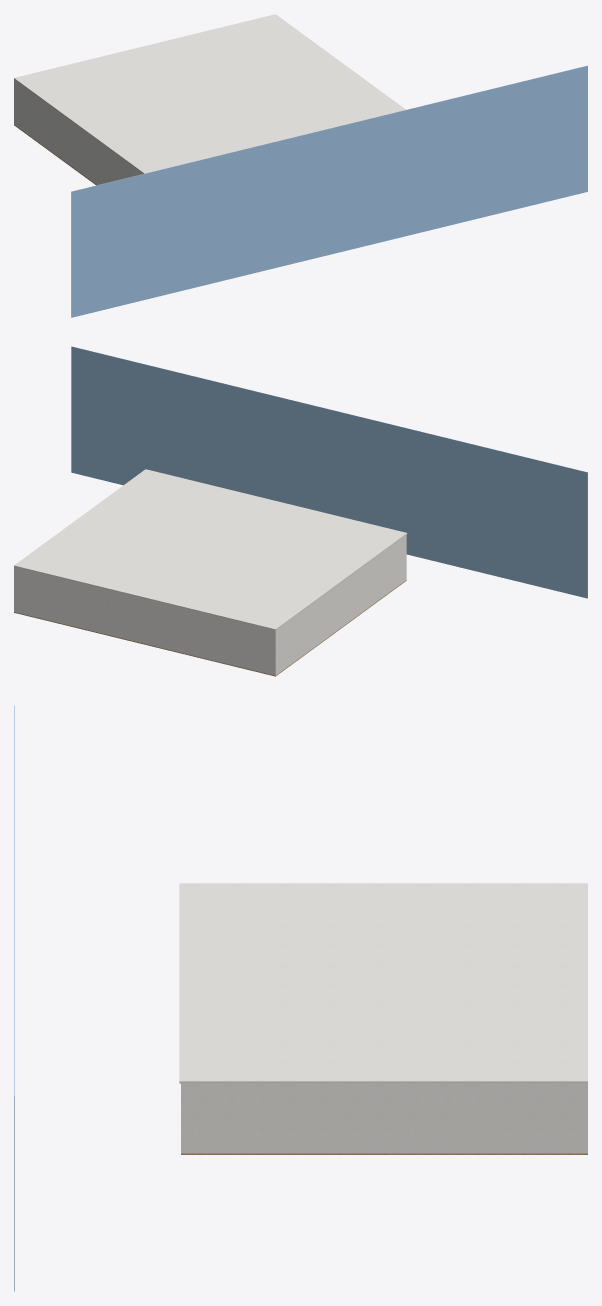
The model's file is interior.glb.
3 renders of one model, top to bottom at view 1: azimuth 30°, elevation 25°; view 2: azimuth 150°, elevation 25°; view 3: azimuth 270°, elevation 25°, orthographic. The views are drawn at different scales.
Visible parts, largest first — view 1: Sky_Front, Threads_IN_Ceiling, Threads_IN_WallMain; view 2: Sky_Front, Threads_IN_Ceiling, Threads_IN_WallMain, House_Floor_Threads; view 3: Threads_IN_Ceiling, Threads_IN_WallMain, House_Floor_Threads.
Part boxes in pixels (box(x1,y1,x2,y2)): Sky_Front: box(71, 65, 587, 317); Threads_IN_Ceiling: box(14, 14, 405, 173); Threads_IN_WallMain: box(14, 79, 142, 185); Sky_Front: box(71, 346, 587, 598); Threads_IN_Ceiling: box(14, 469, 407, 630); Threads_IN_WallMain: box(14, 535, 406, 675); House_Floor_Threads: box(14, 580, 406, 676); Threads_IN_Ceiling: box(179, 883, 587, 1083); Threads_IN_WallMain: box(181, 1083, 587, 1153); House_Floor_Threads: box(181, 1153, 587, 1154).
Size of the model in its own units: 60 by 14 by 37.23.
Materials: 30 (27 with a texture image).
